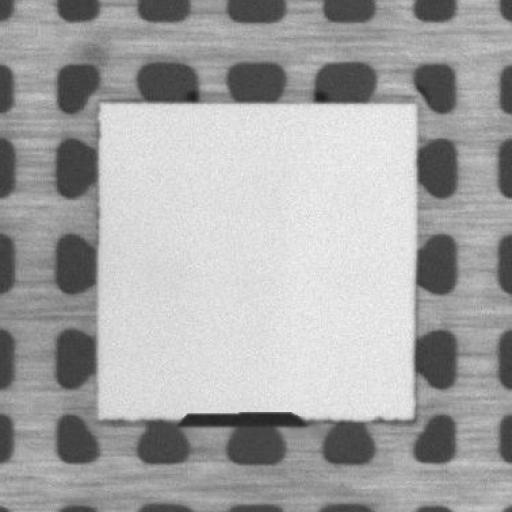DIE_BROKEN: (170, 408, 308, 426)
